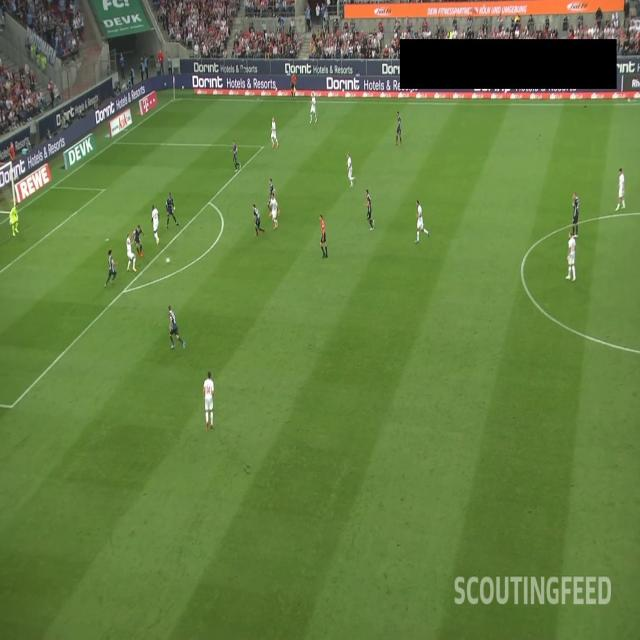ball: (164, 256, 170, 264)
